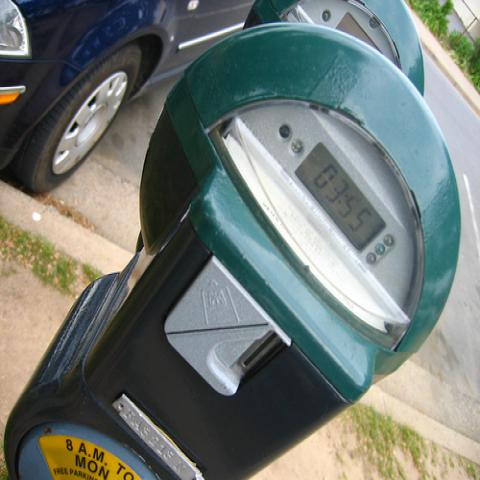car: (0, 2, 289, 193)
